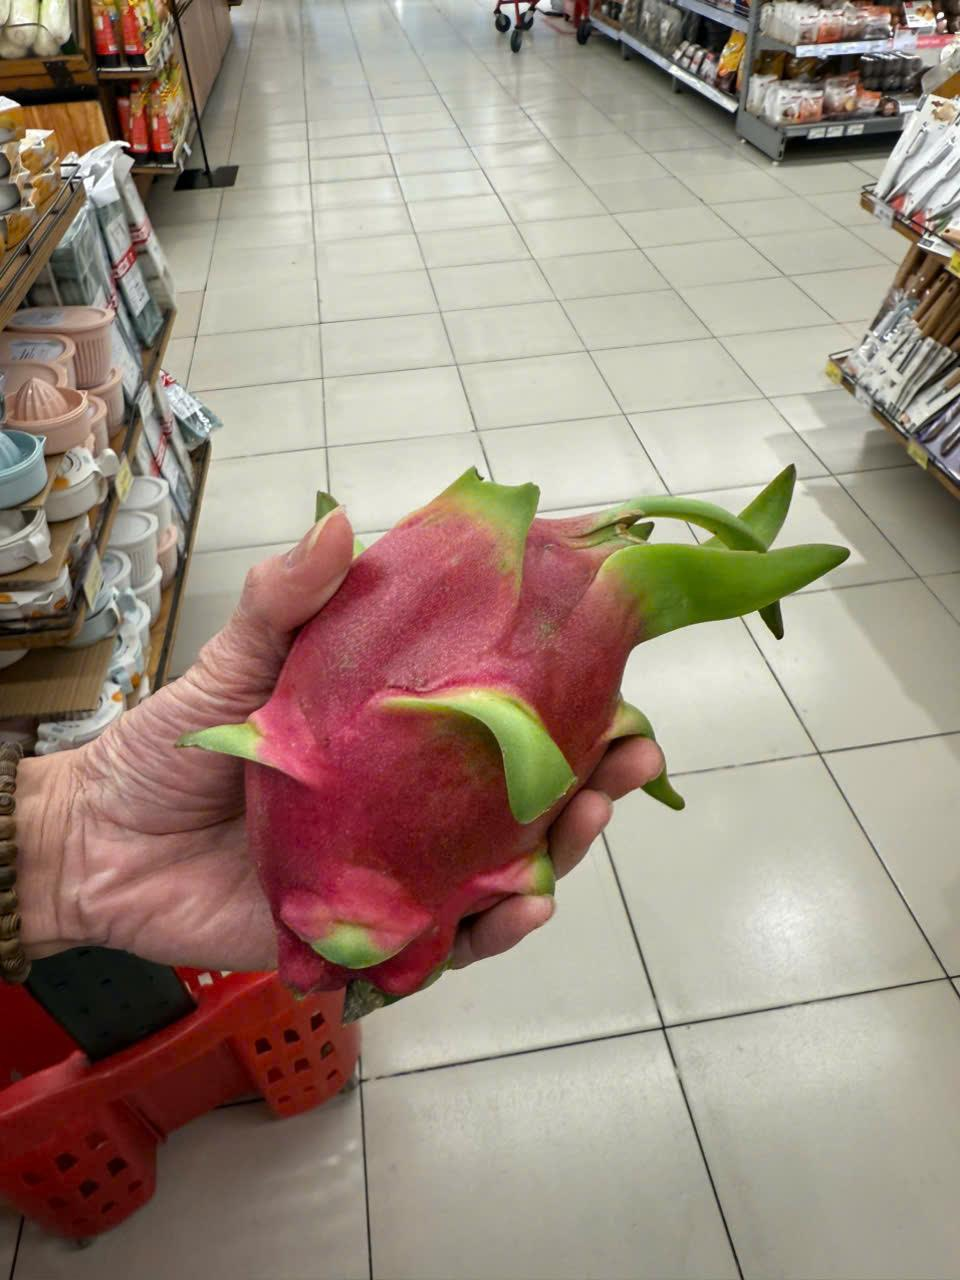dragon fruit: (175, 428, 874, 982)
